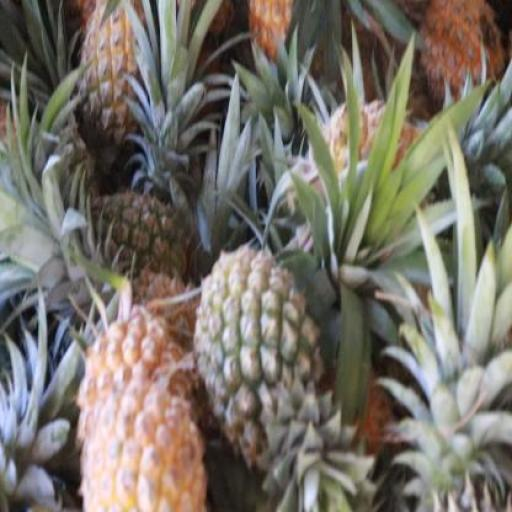------------------------------: (190, 246, 328, 448), (76, 0, 150, 158)
Pineapple - v8 v1: (420, 1, 510, 131)
